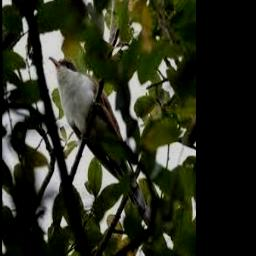Cuckoo: (49, 55, 153, 225)
